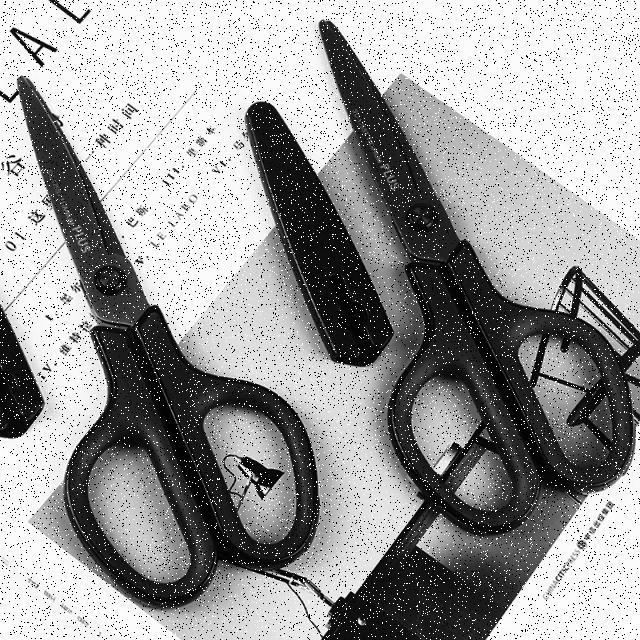scissors: (0, 70, 324, 610), (315, 15, 640, 540)
